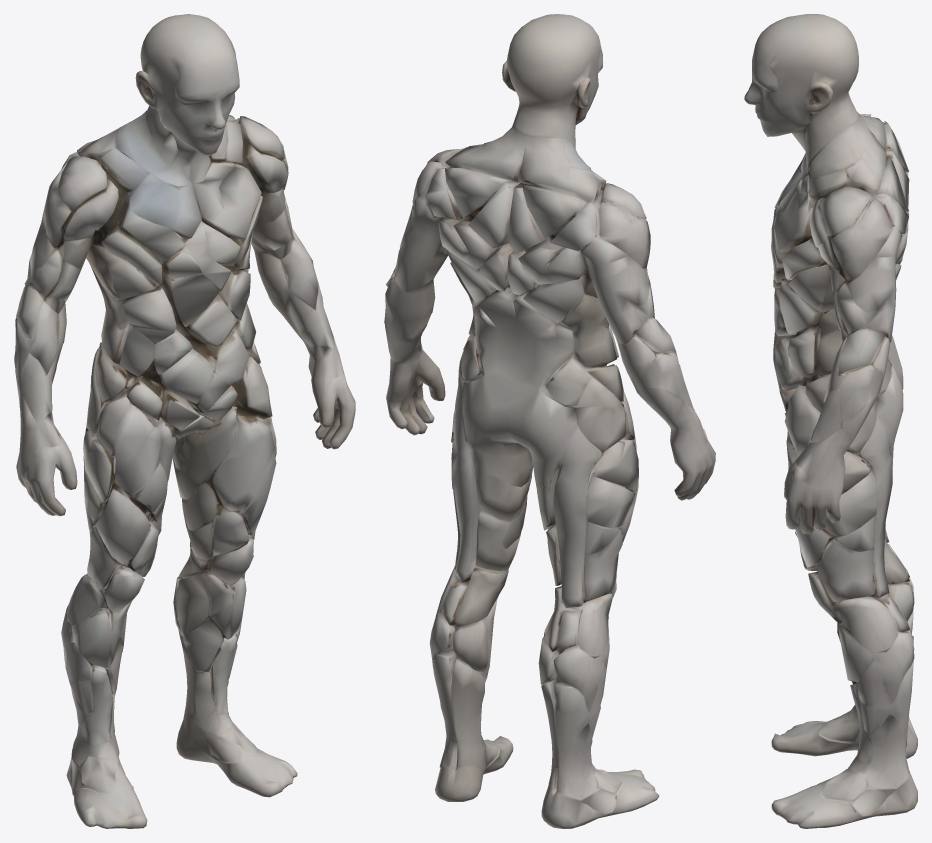
File: Ruins__crumbling_6114e60b_v1.cluster.glb
3 views of the same model, side by side, from view 1: azimuth 30°, elevation 25°; view 2: azimuth 150°, elevation 25°; view 3: azimuth 270°, elevation 25° (orthographic). The views are drawn at different scales.
Visible parts, largest first — view 1: material; view 2: material; view 3: material.
Boxes of the visible parts, box(x1,y1,x2,y2) form: material: box(14, 14, 355, 828); material: box(384, 14, 715, 828); material: box(744, 14, 917, 828).
Size of the model in its own units: 0.826 by 1.9 by 0.3925.
Materials: 1 (1 with a texture image).
